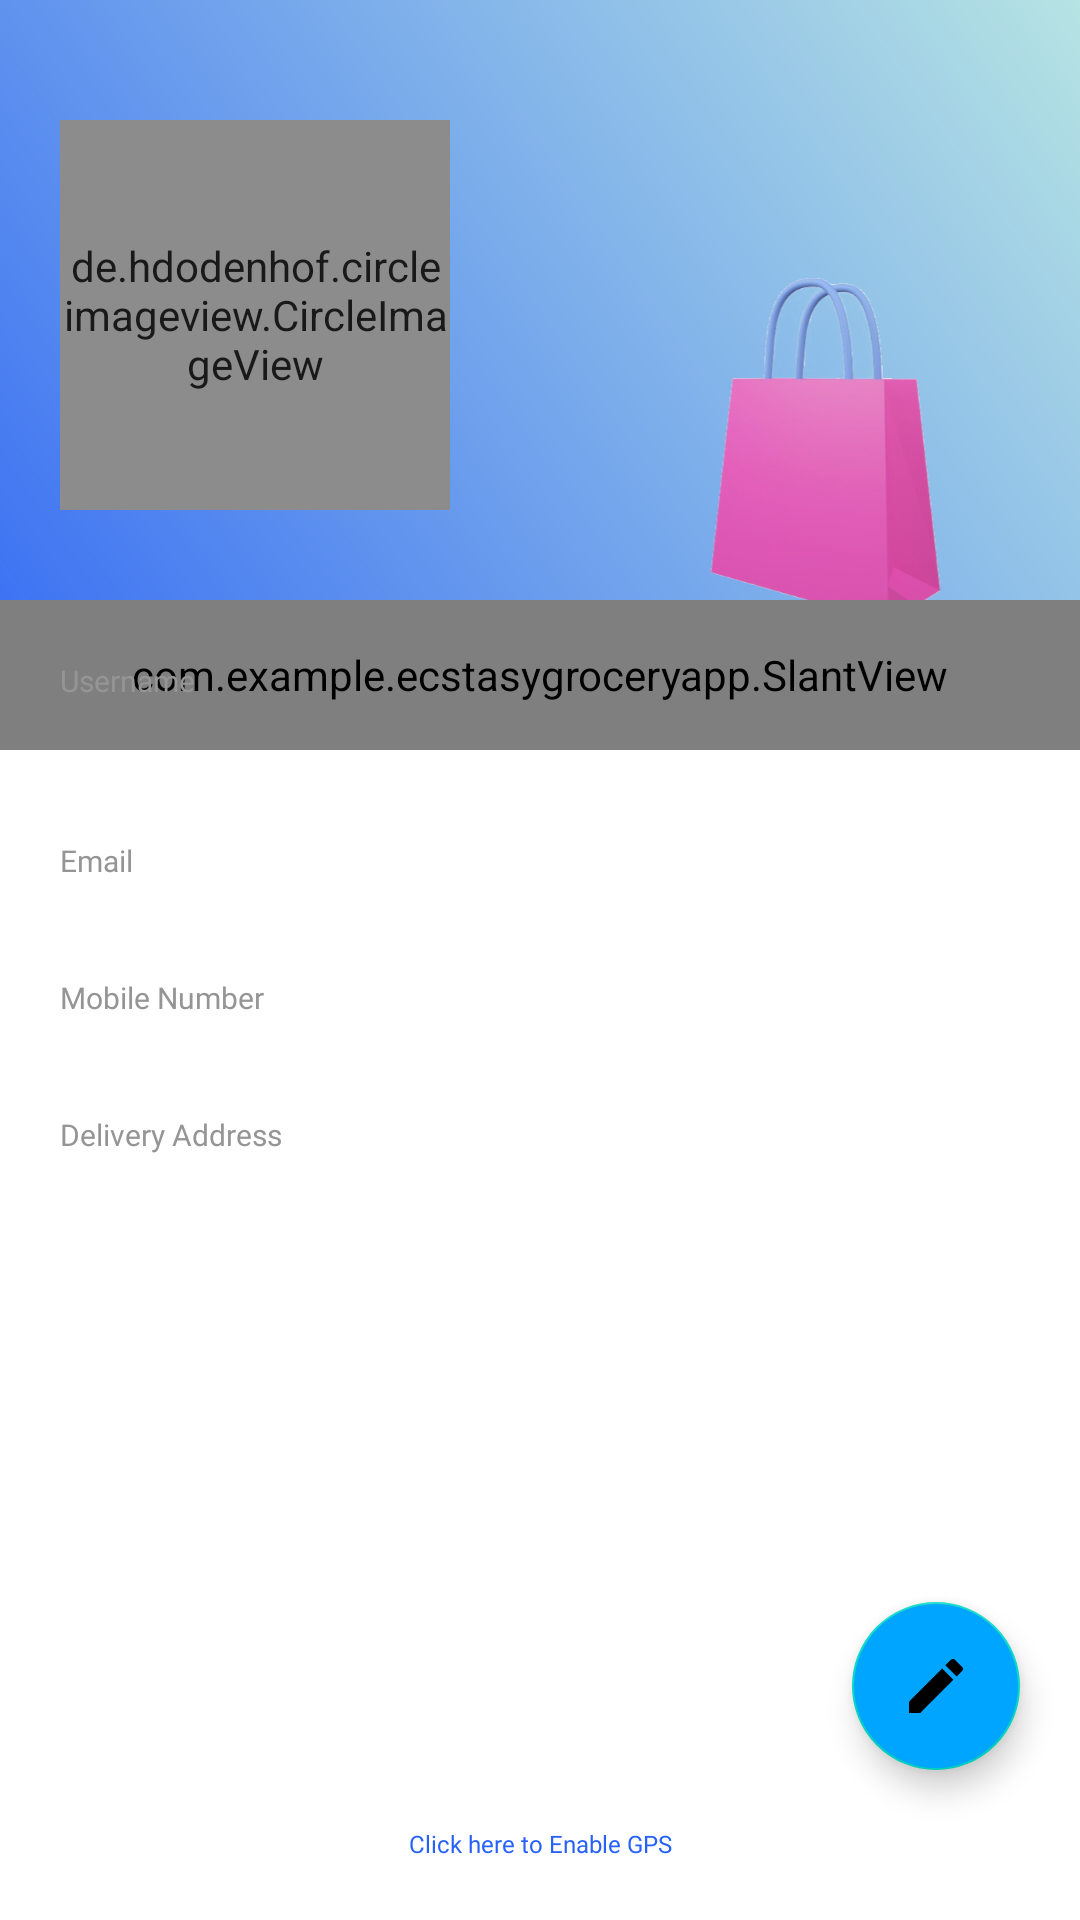

Icon click points for this 1080*1920 phone screenshot, format [x,y]:
edit: [936,1686]
